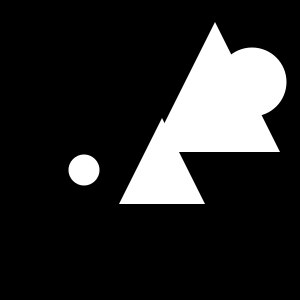rectangle: (218, 48, 286, 116), (69, 154, 100, 186)
triangle: (150, 22, 280, 152), (119, 118, 205, 204)
